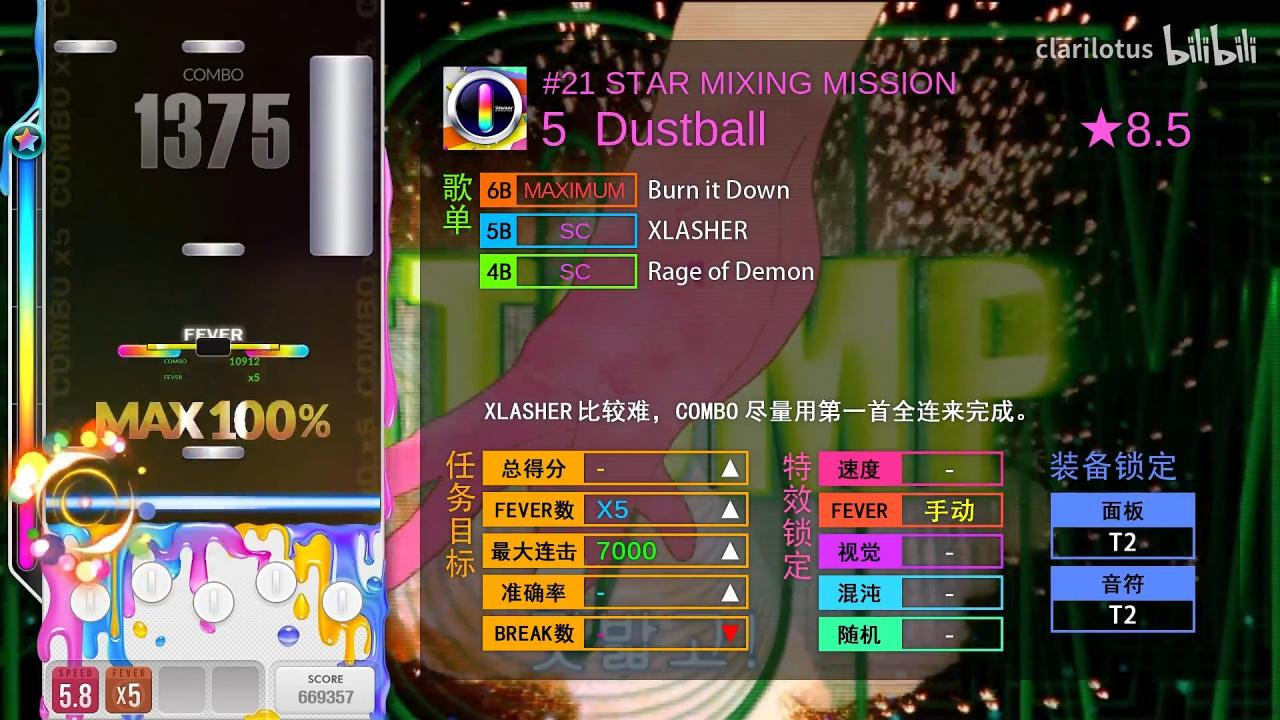hold-end: (310, 56, 373, 68)
hold-start: (310, 242, 373, 256)
note: (181, 446, 246, 460), (245, 344, 309, 358), (182, 243, 245, 256), (118, 345, 181, 357), (54, 40, 116, 52), (182, 41, 245, 52)
